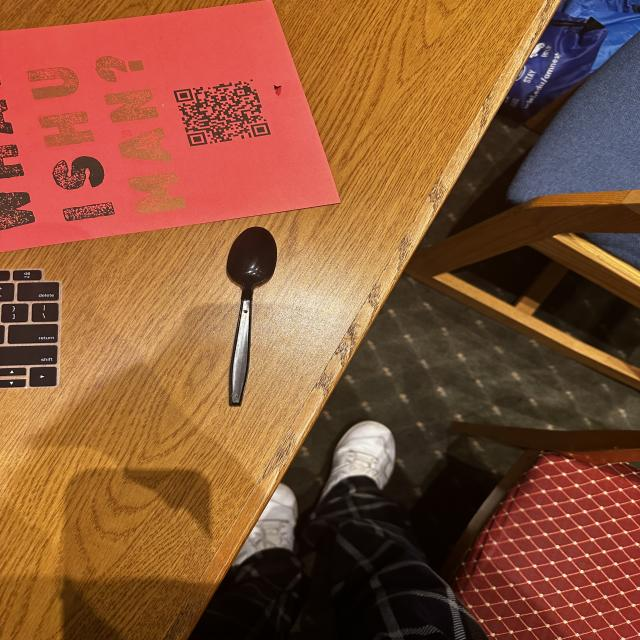spoon: (188, 216, 290, 424)
